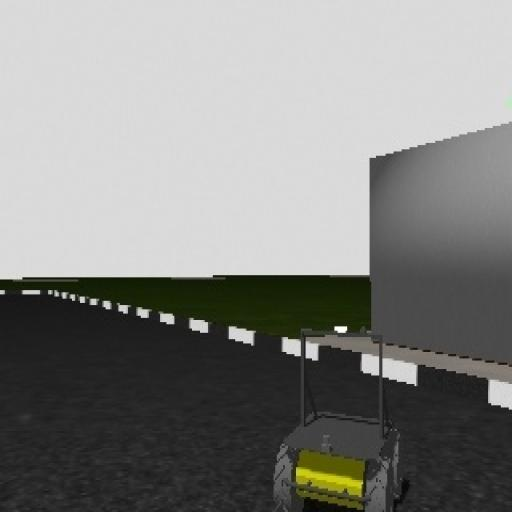huskya200: (264, 323, 403, 512)
